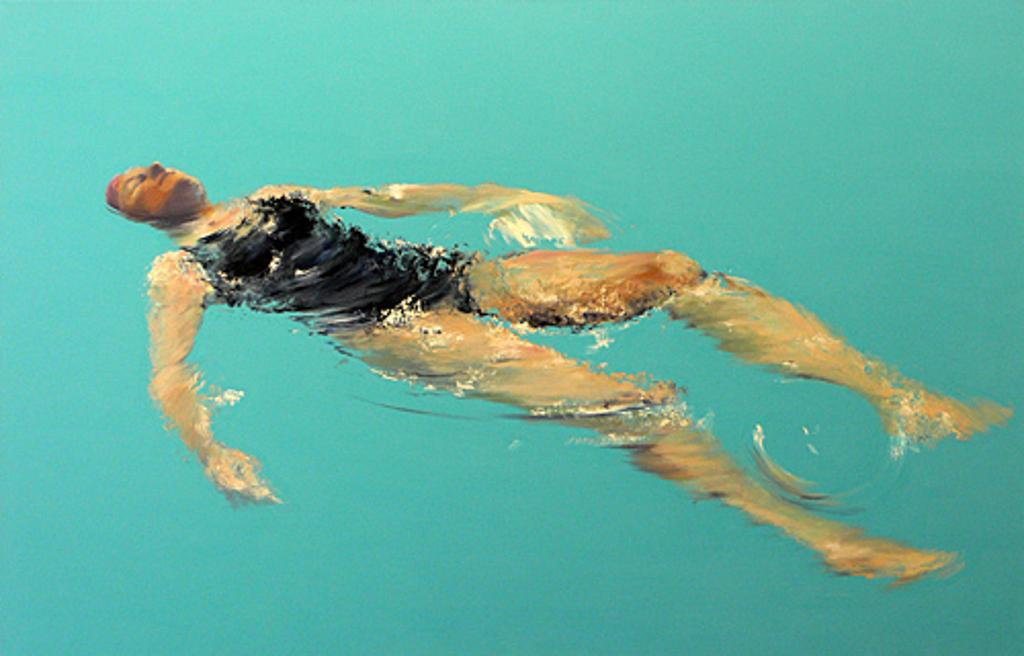face: (103, 161, 195, 219)
